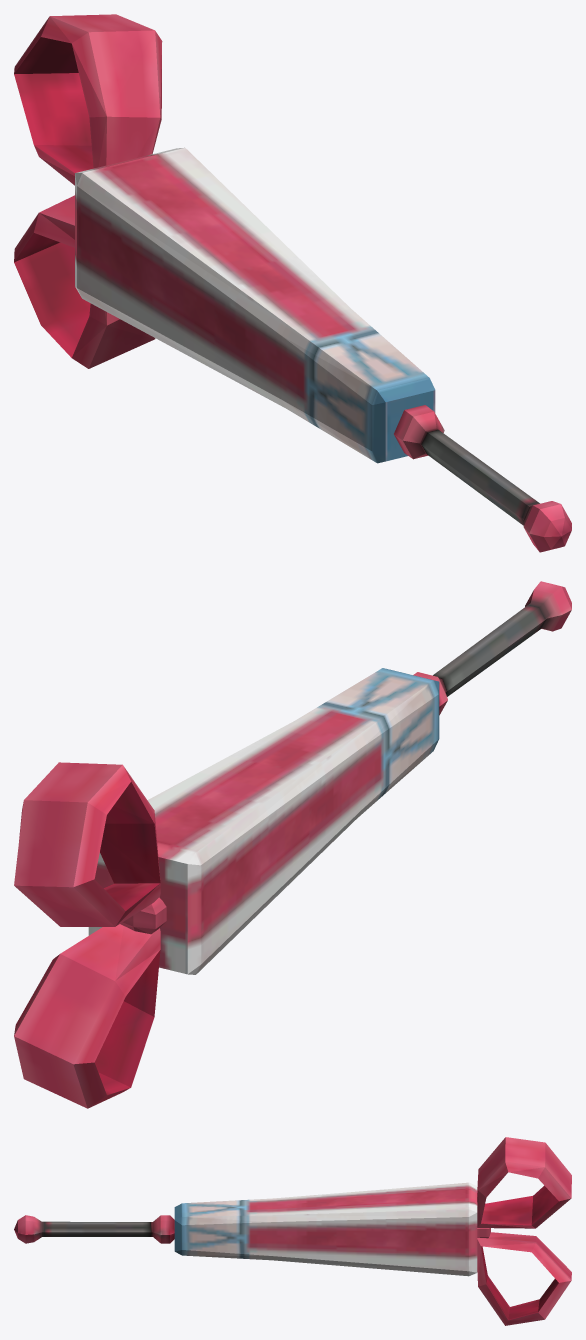
File: Whale_bdWeapon_lance.obj
The picture shows the model from 3 angles, top to bottom: view 1: azimuth 30°, elevation 25°; view 2: azimuth 150°, elevation 25°; view 3: azimuth 270°, elevation 25°; orthographic projection. The views are drawn at different scales.
Parts seen in each view (by area): view 1: Whale_bdWeapon_tri:lance; view 2: Whale_bdWeapon_tri:lance; view 3: Whale_bdWeapon_tri:lance.
Boxes of the visible parts, <box> form: Whale_bdWeapon_tri:lance: <box>14,14,571,552</box>; Whale_bdWeapon_tri:lance: <box>14,581,571,1108</box>; Whale_bdWeapon_tri:lance: <box>14,1137,571,1325</box>.
Size of the model in its own units: 0.3078 by 0.8119 by 2.29.
1 material, 1 textured.
